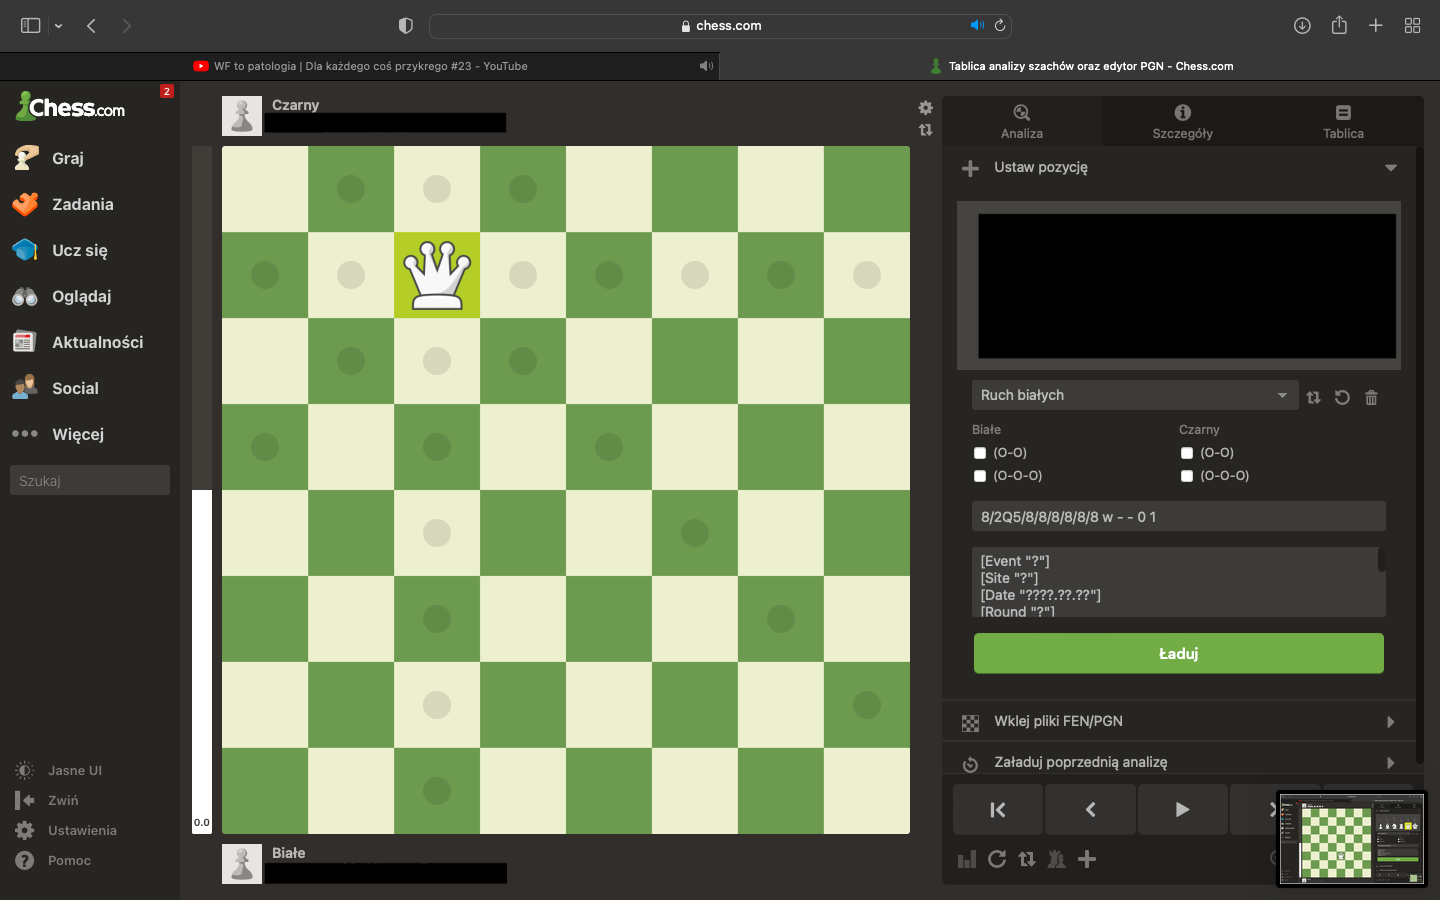white_queen: (402, 240, 473, 312)
